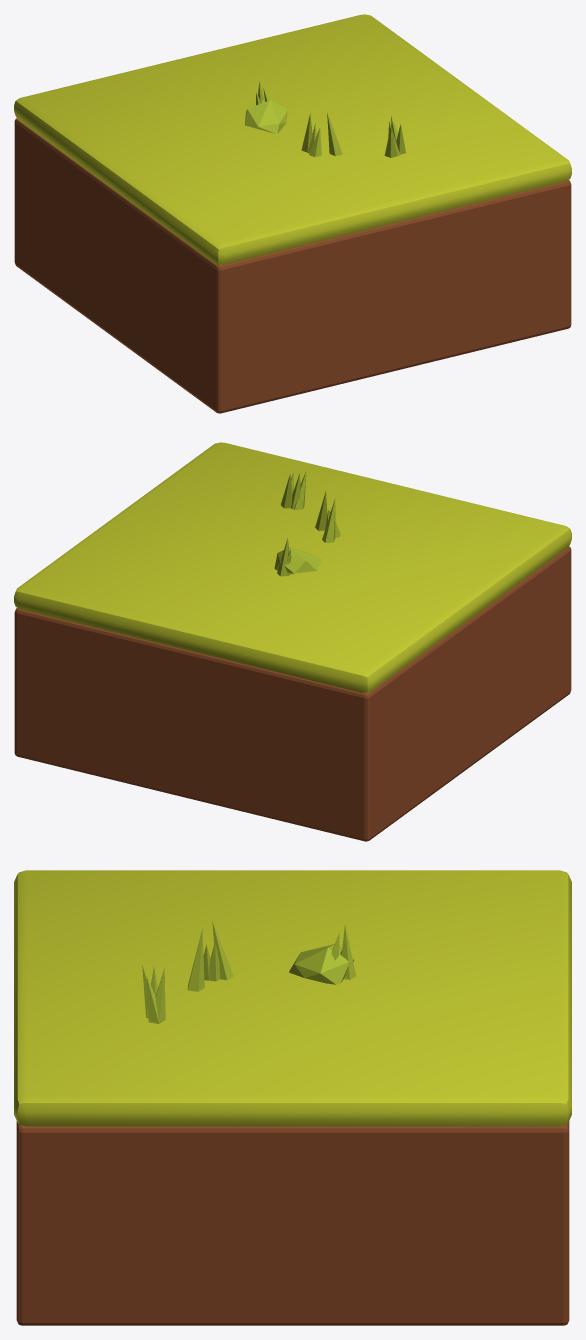
File: tile_grass.glb
3 renders of one model, top to bottom at view 1: azimuth 30°, elevation 25°; view 2: azimuth 150°, elevation 25°; view 3: azimuth 270°, elevation 25°, orthographic. The views are drawn at different scales.
Visible parts, largest first — view 1: grass_body, grass_cap, g0_clod0; view 2: grass_body, grass_cap, g0_clod0; view 3: grass_cap, grass_body, g0_clod0, g0t1_blade2.
Part boxes in pixels (x1,y1,x2,y2): grass_body: [14, 118, 571, 413]; grass_cap: [14, 14, 571, 264]; g0_clod0: [245, 100, 287, 133]; grass_body: [14, 546, 571, 841]; grass_cap: [14, 442, 571, 692]; g0_clod0: [274, 547, 321, 573]; grass_cap: [14, 870, 571, 1126]; grass_body: [16, 1121, 569, 1325]; g0_clod0: [289, 944, 354, 984]; g0t1_blade2: [187, 928, 204, 991].
Size of what is drawn, in the model's own units: 2.02 by 1.13 by 2.02.
